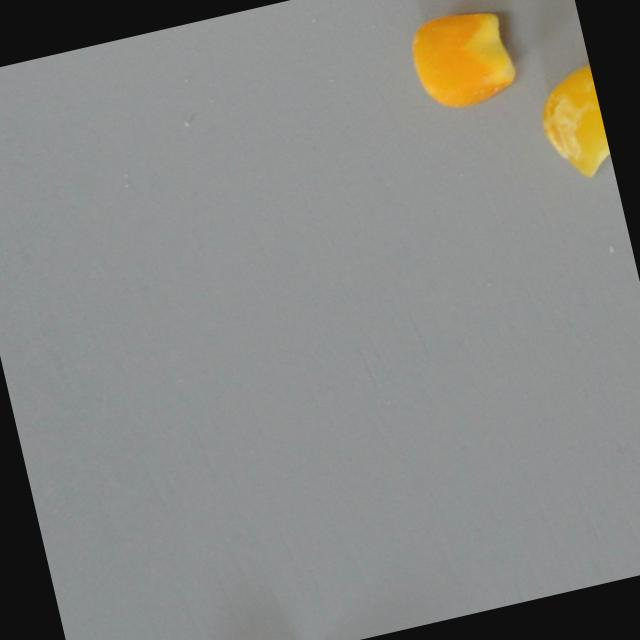pelicula: (400, 0, 524, 116), (525, 58, 615, 189)
